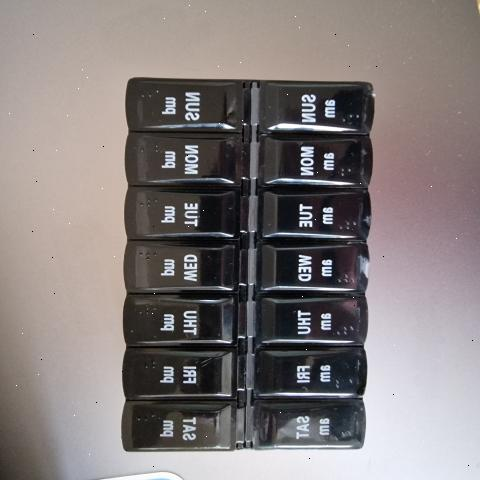FRI-am: (266, 351, 359, 392)
FRI-pm: (131, 348, 227, 396)
MON-am: (261, 145, 368, 193)
MON-pm: (133, 133, 238, 184)
SAT-am: (261, 398, 365, 442)
SAT-pm: (127, 406, 234, 448)
SUN-am: (257, 90, 371, 143)
SUN-pm: (136, 82, 241, 134)
THU-am: (262, 281, 359, 336)
THU-pm: (129, 301, 232, 344)
TUE-am: (259, 198, 365, 244)
TUE-pm: (135, 195, 231, 238)
WED-am: (263, 242, 368, 284)
WED-pm: (124, 242, 242, 290)
